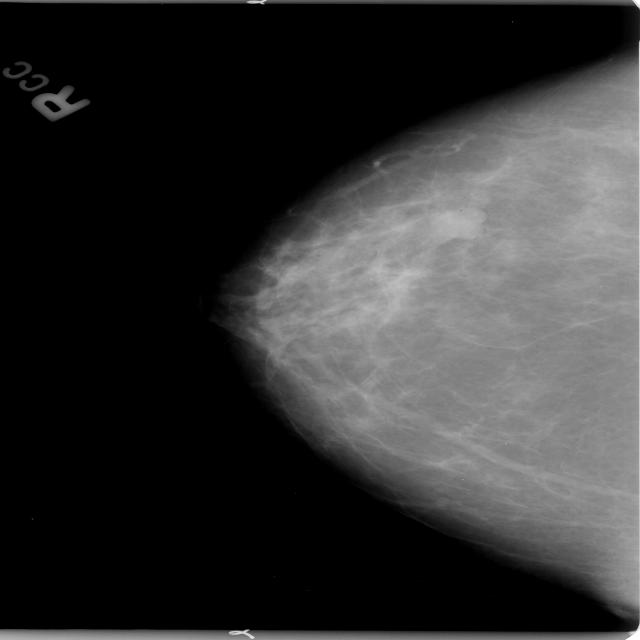normal: (184, 61, 640, 594)
